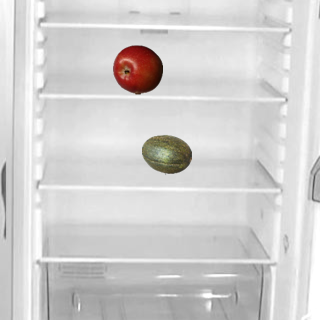Apple Braeburn: (112, 44, 162, 94)
Melon Piel de Sapo: (141, 129, 191, 179)
